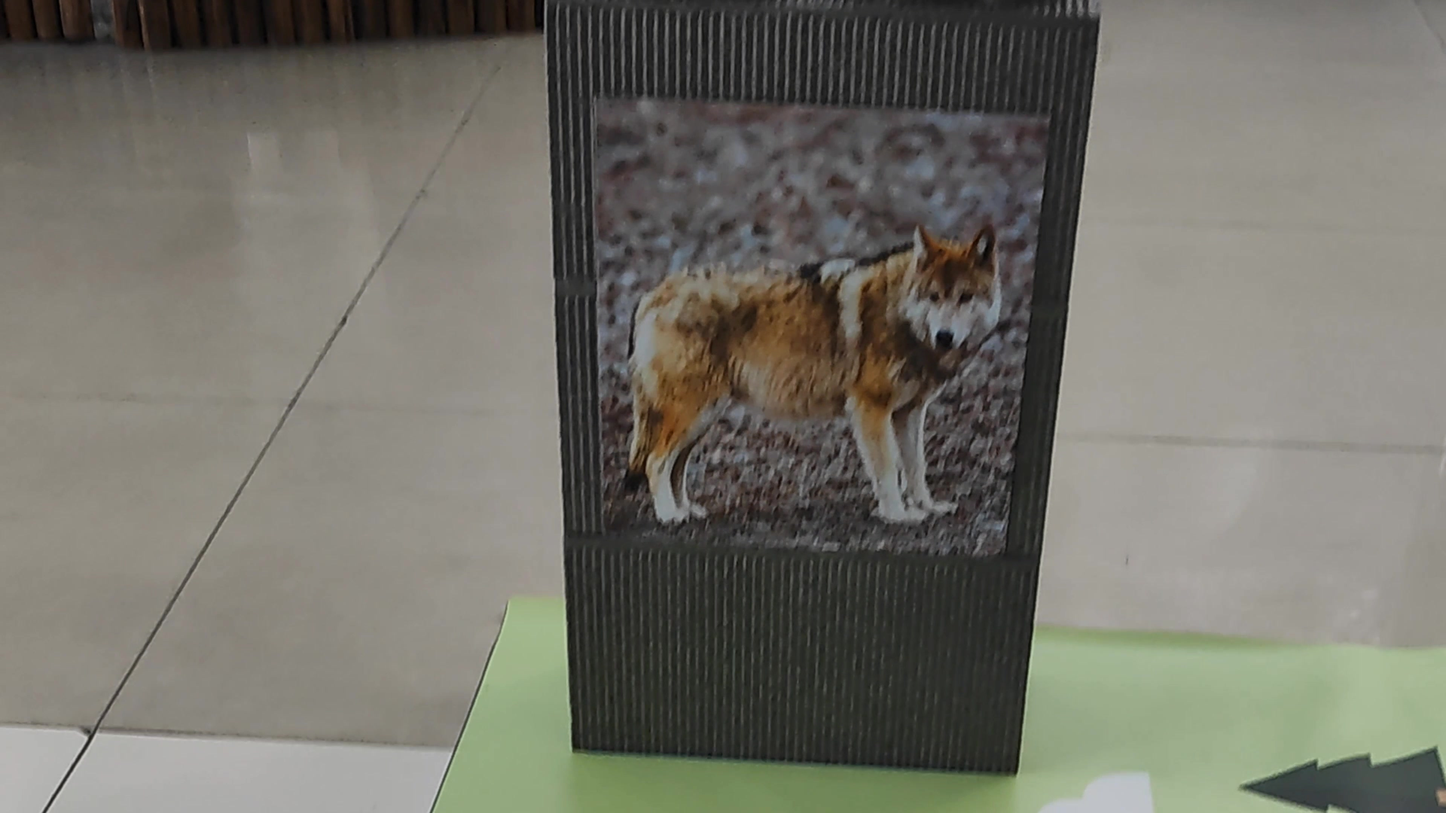wolf: (601, 126, 1020, 548)
